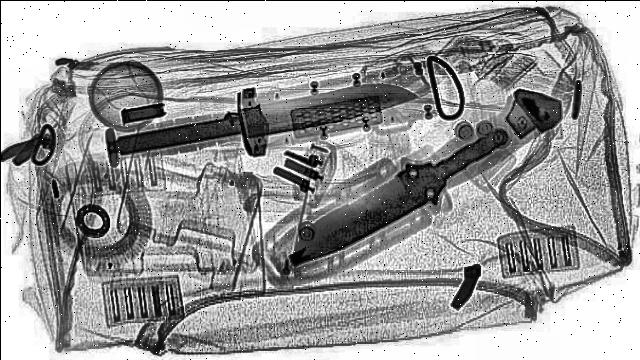Knife: (78, 59, 446, 187), (256, 122, 538, 282)
